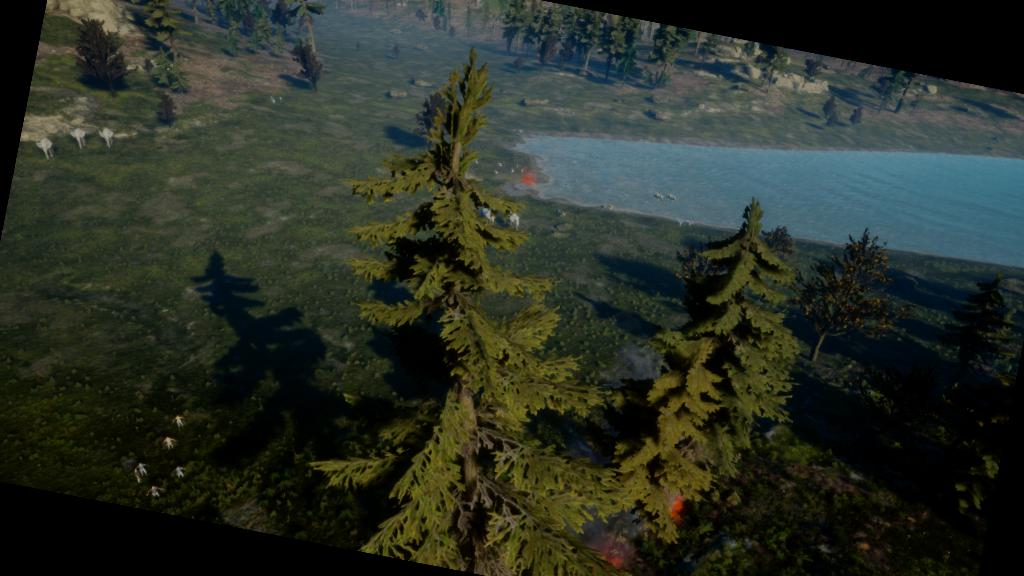Fire: (648, 479, 694, 530), (578, 541, 627, 575), (518, 164, 542, 192)
elephant: (90, 123, 122, 154), (30, 134, 62, 165), (63, 124, 92, 154)
hippopotamus: (552, 208, 570, 220)
human: (142, 482, 165, 508), (156, 432, 178, 454), (129, 458, 152, 479), (125, 466, 146, 489), (166, 462, 188, 483), (170, 412, 187, 432)
rhinoceros: (649, 190, 667, 204), (664, 194, 680, 204)
